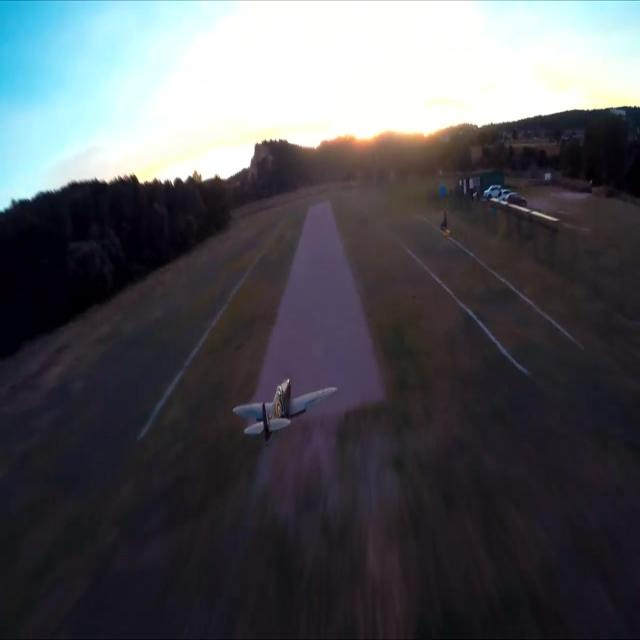iha: (263, 402, 305, 408)
